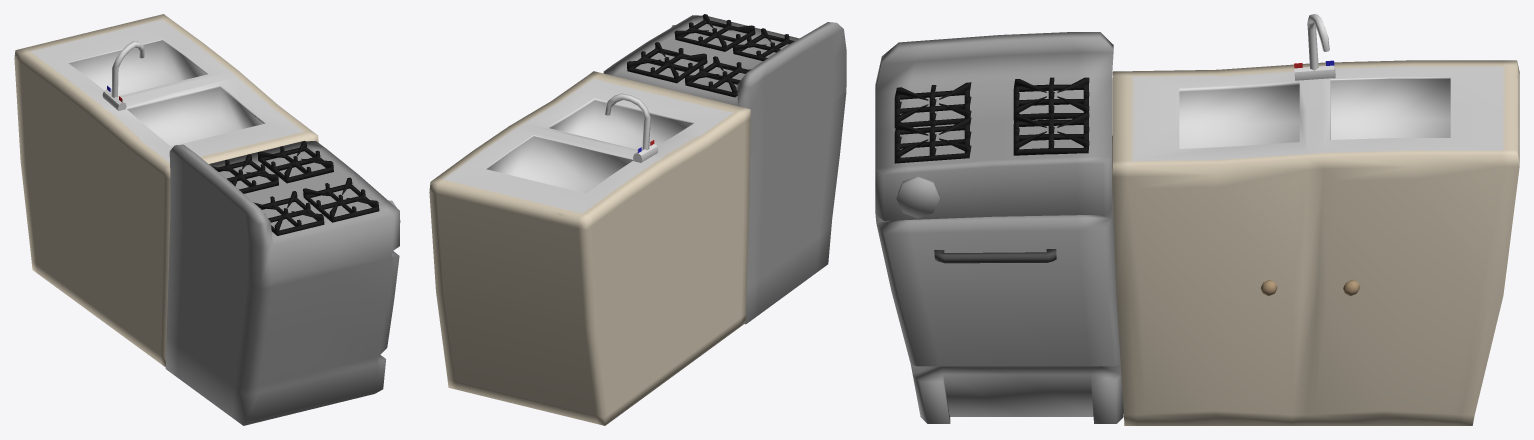
The model's file is kitchenCounter.fbx.
3 renders of one model, left to right at view 1: azimuth 30°, elevation 25°; view 2: azimuth 150°, elevation 25°; view 3: azimuth 270°, elevation 25°, orthographic. The views are drawn at different scales.
Visible parts, largest first — view 1: kitchenCounter; view 2: kitchenCounter; view 3: kitchenCounter.
Boxes of the visible parts, x1=… form: kitchenCounter: x1=14, y1=14, x2=400, y2=425; kitchenCounter: x1=429, y1=14, x2=846, y2=425; kitchenCounter: x1=875, y1=14, x2=1519, y2=425.
Bounding box in the file's own units: 87.59 × 132 × 224.
